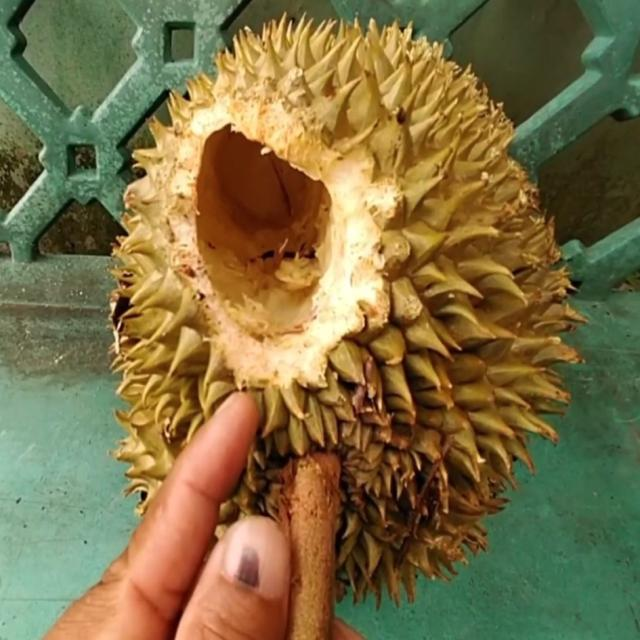defective: (110, 9, 586, 613)
